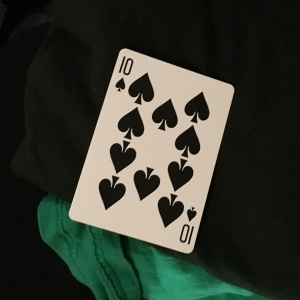card: (64, 47, 236, 253)
